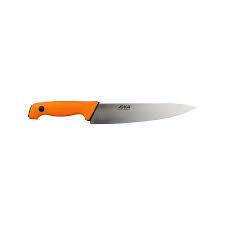Knife: (27, 100, 196, 124)
